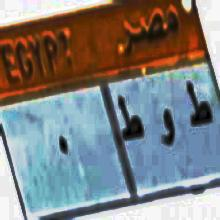0: (54, 122, 72, 174)
Taa: (186, 72, 214, 138), (117, 92, 145, 155)
waw: (159, 102, 178, 154)
